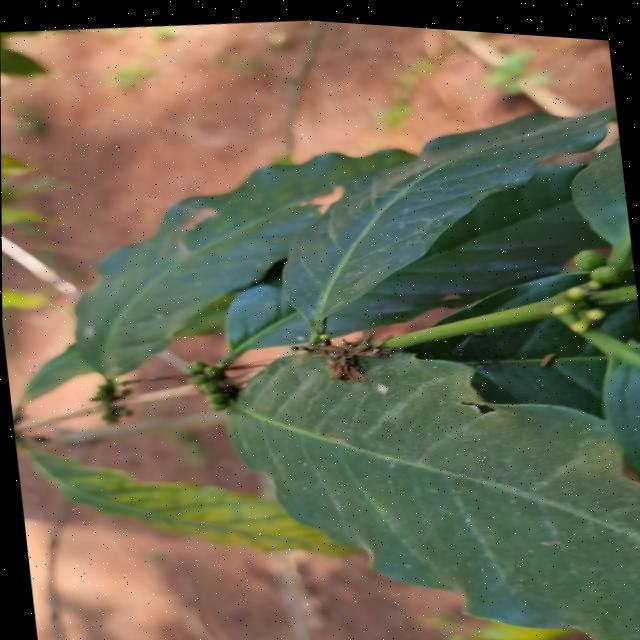leaves: (194, 290, 640, 640), (39, 76, 417, 392), (251, 45, 615, 343)
